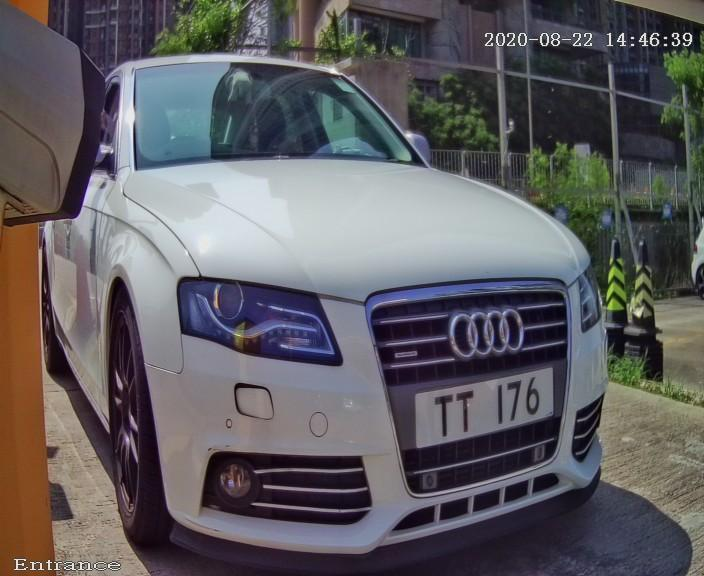License Plate: (376, 350, 587, 460)
